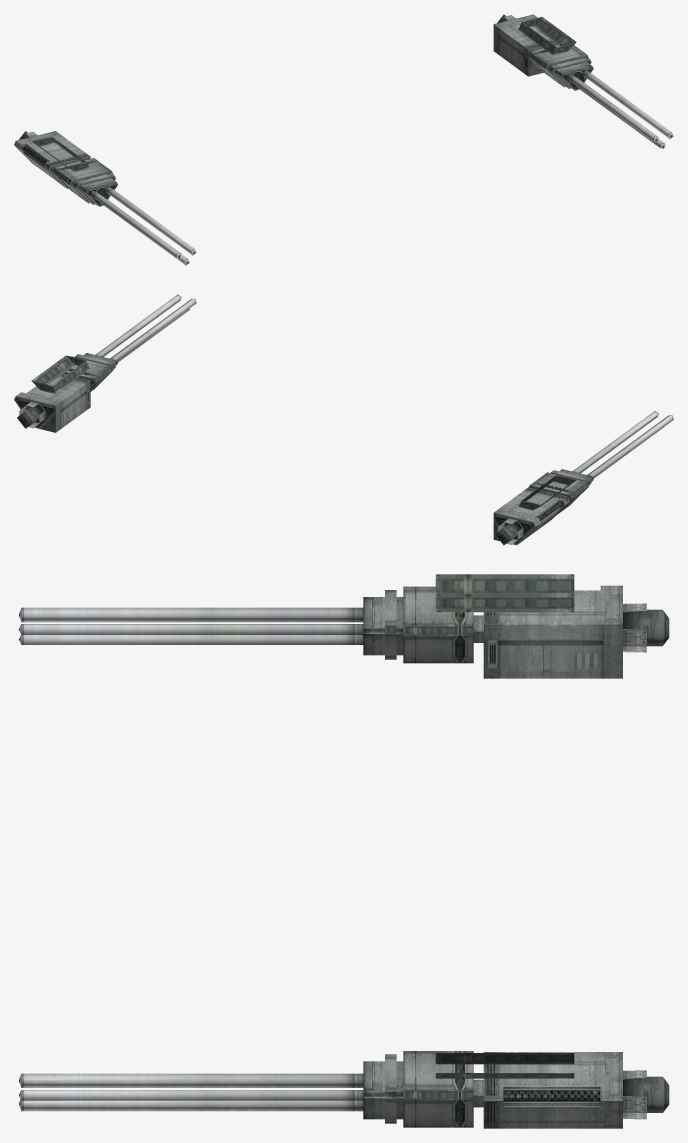
The model's file is black_sun_fighter_heavy_weapon3_s04_l1.fbx.
3 views of the same model, one above another, from view 1: azimuth 30°, elevation 25°; view 2: azimuth 150°, elevation 25°; view 3: azimuth 270°, elevation 25° (orthographic). The views are drawn at different scales.
Visible parts, largest first — view 1: mesh_node; view 2: mesh_node; view 3: mesh_node.
Boxes of the visible parts, bbox=[...] form: mesh_node: bbox=[14, 14, 673, 265]; mesh_node: bbox=[14, 294, 673, 545]; mesh_node: bbox=[19, 574, 669, 1128].
Bounding box in the file's own units: 14.25 × 0.8971 × 7.7.
